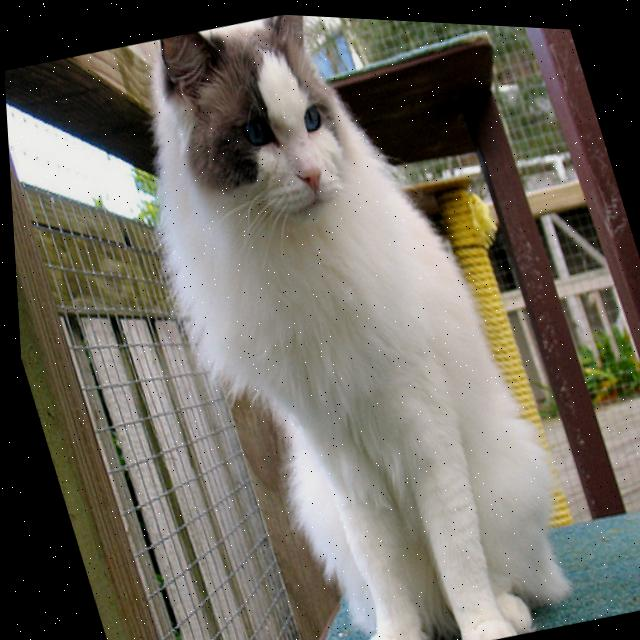Ragdoll: (92, 4, 597, 640)
